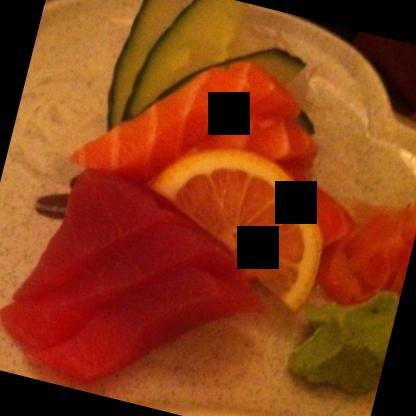lemon: (134, 128, 342, 309)
salmon: (75, 32, 319, 224)
tuna: (0, 154, 284, 415)
